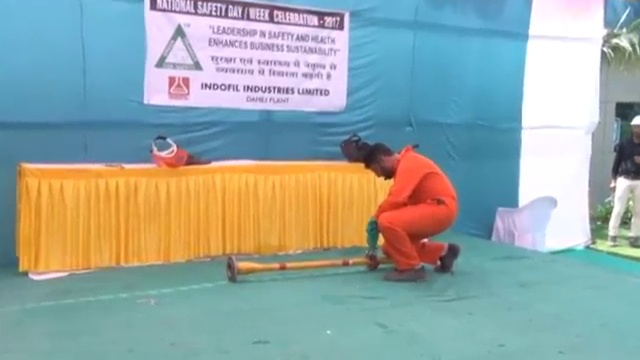helmet: (628, 112, 640, 127)
helmet_off: (363, 143, 399, 183)
helmet_on: (627, 109, 640, 139)
person: (355, 139, 462, 285), (609, 108, 640, 248)
